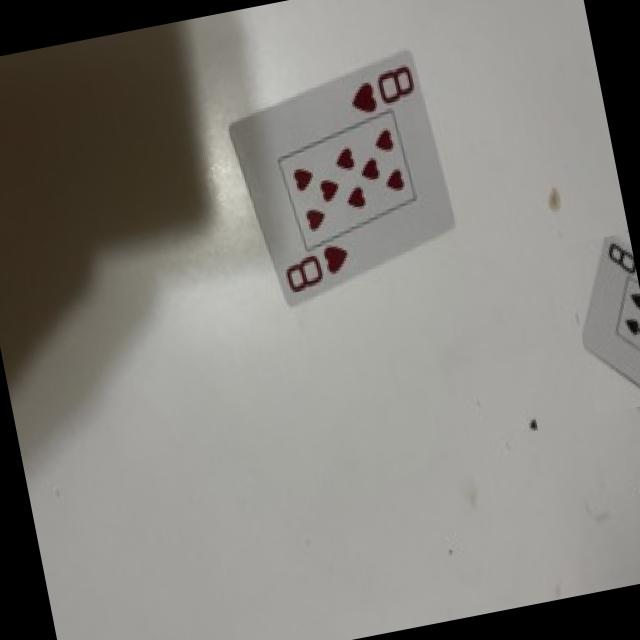8 of hearts: (230, 54, 453, 306)
8 of spades: (582, 238, 640, 387)
